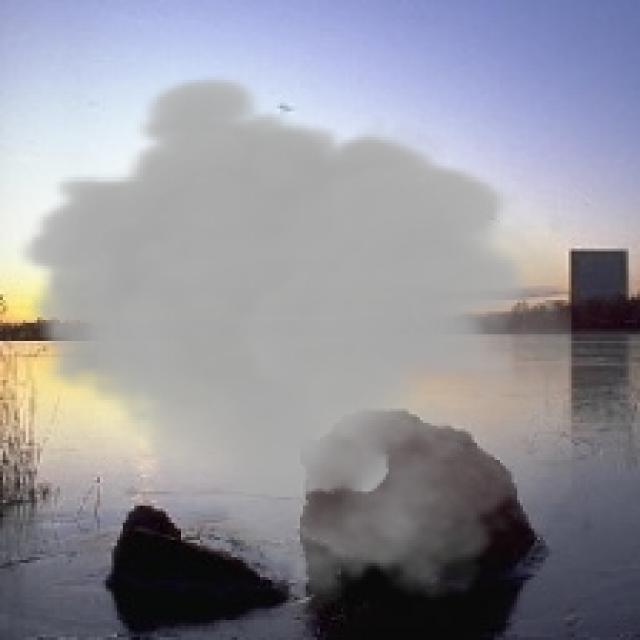Smoke: (17, 71, 572, 614)
